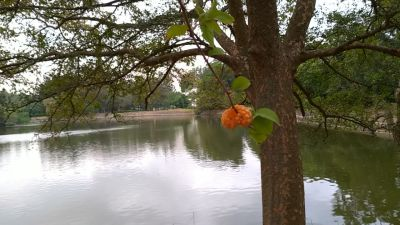eggs: (221, 103, 254, 132)
